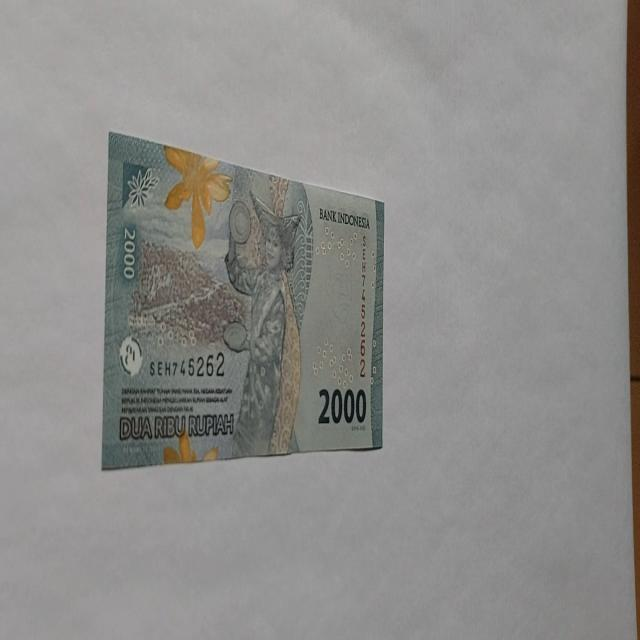dua ribu rupiah: (100, 130, 386, 470), (222, 189, 302, 458), (162, 143, 232, 250)
